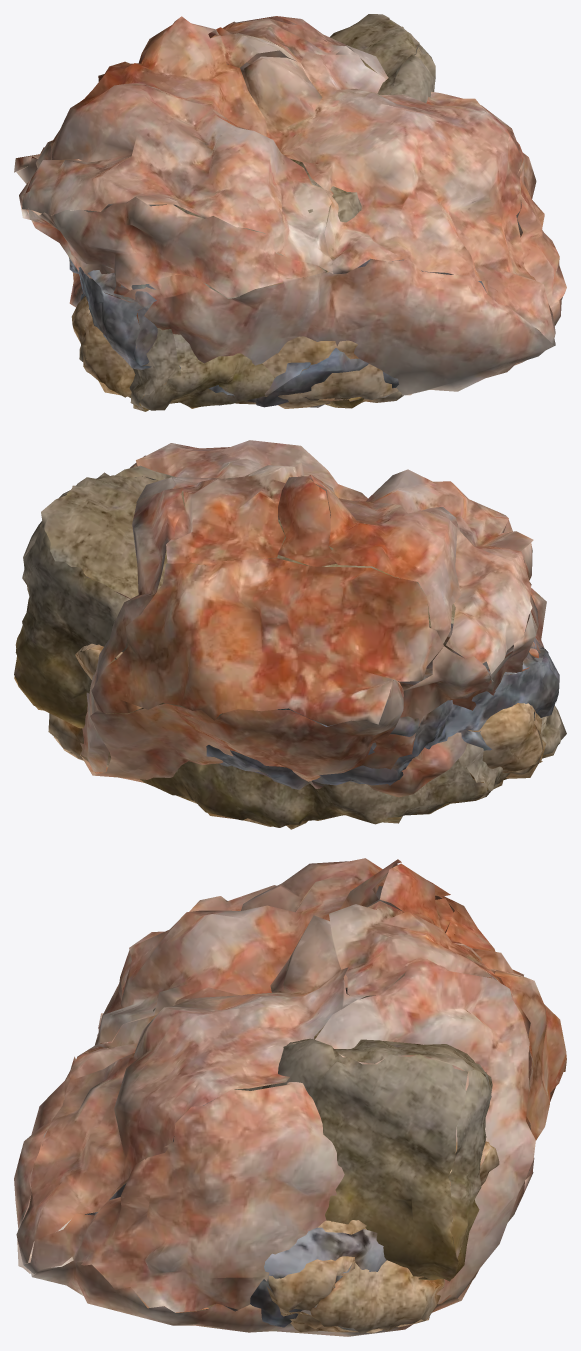
The model's file is ph_rocks.glb.
3 views of the same model, one above another, from view 1: azimuth 30°, elevation 25°; view 2: azimuth 150°, elevation 25°; view 3: azimuth 270°, elevation 25° (orthographic). The views are drawn at different scales.
Parts seen in each view (by area): view 1: piece_0, piece_3, piece_2, piece_1; view 2: piece_0, piece_3, piece_2, piece_1; view 3: piece_0, piece_3, piece_1, piece_2.
Part boxes in pixels (left/top/right/bottom): piece_0: left=14, top=16, right=566, bottom=404; piece_3: left=79, top=14, right=435, bottom=411; piece_2: left=69, top=183, right=486, bottom=407; piece_1: left=71, top=271, right=403, bottom=408; piece_0: left=80, top=440, right=546, bottom=797; piece_3: left=14, top=465, right=566, bottom=829; piece_2: left=206, top=623, right=559, bottom=789; piece_1: left=48, top=643, right=546, bottom=782; piece_0: left=14, top=858, right=566, bottom=1336; piece_3: left=153, top=1008, right=492, bottom=1281; piece_1: left=172, top=1141, right=499, bottom=1333; piece_2: left=85, top=987, right=386, bottom=1327.
Bounding box in the file's own units: 0.2273 × 0.1539 × 0.215.
1 material, 1 textured.
